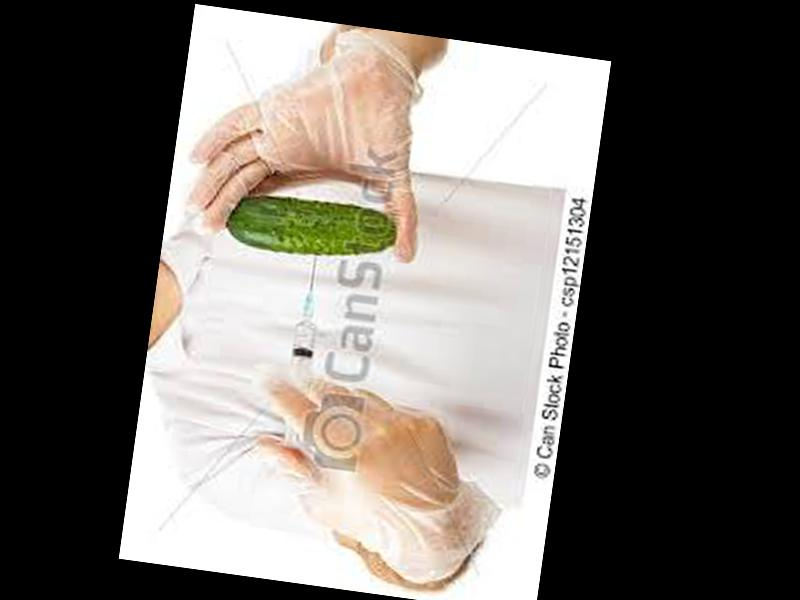Cucumber: (223, 186, 402, 265)
